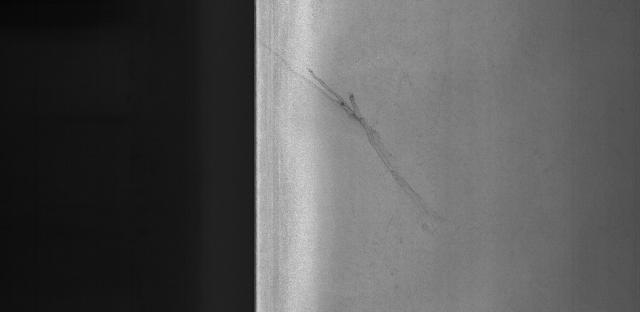water_spot: (298, 58, 457, 235)
